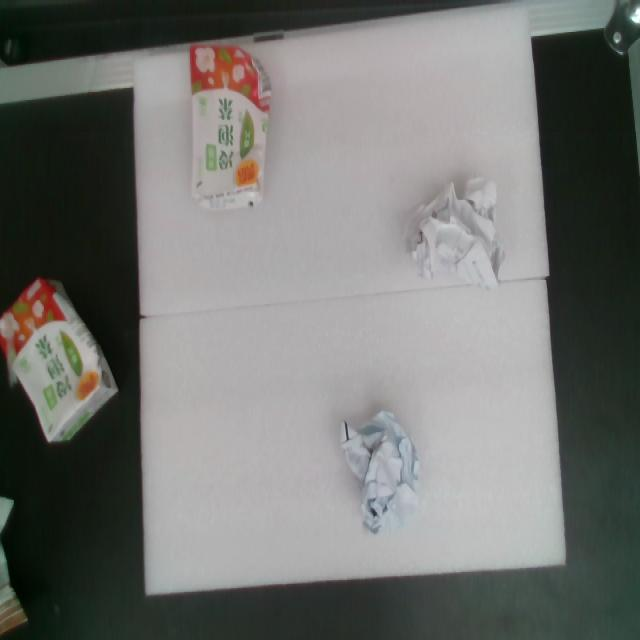juicebox: (0, 256, 140, 465), (176, 33, 283, 218)
paper: (315, 384, 440, 551), (393, 146, 526, 299)
